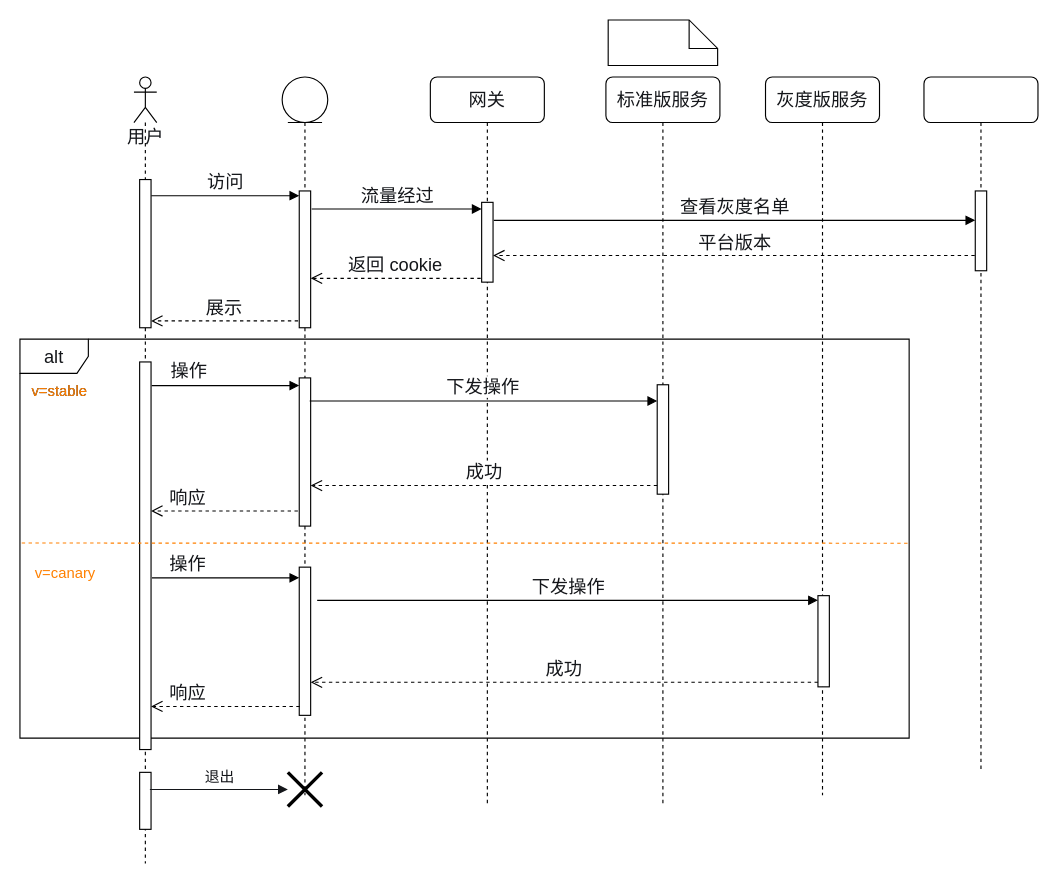
Image size: 1058x884. Some labels were removed from this diagram. Each missing label, with the box of its shape:
平台页面: (281, 76, 328, 795)
系统服务: (607, 19, 718, 66)
金丝雀平台: (923, 76, 1038, 772)
